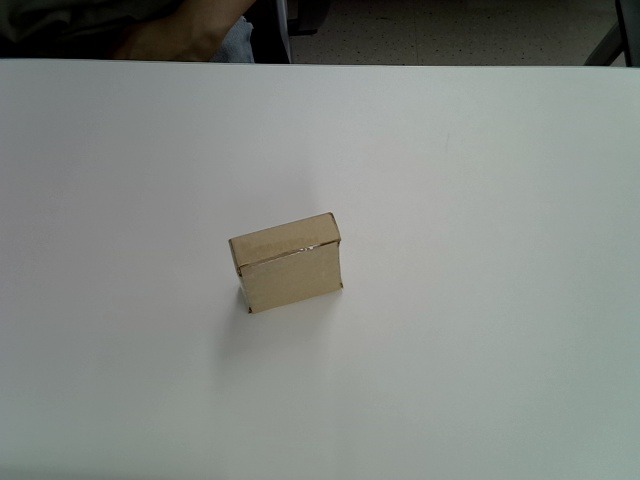normal: (229, 209, 344, 315)
